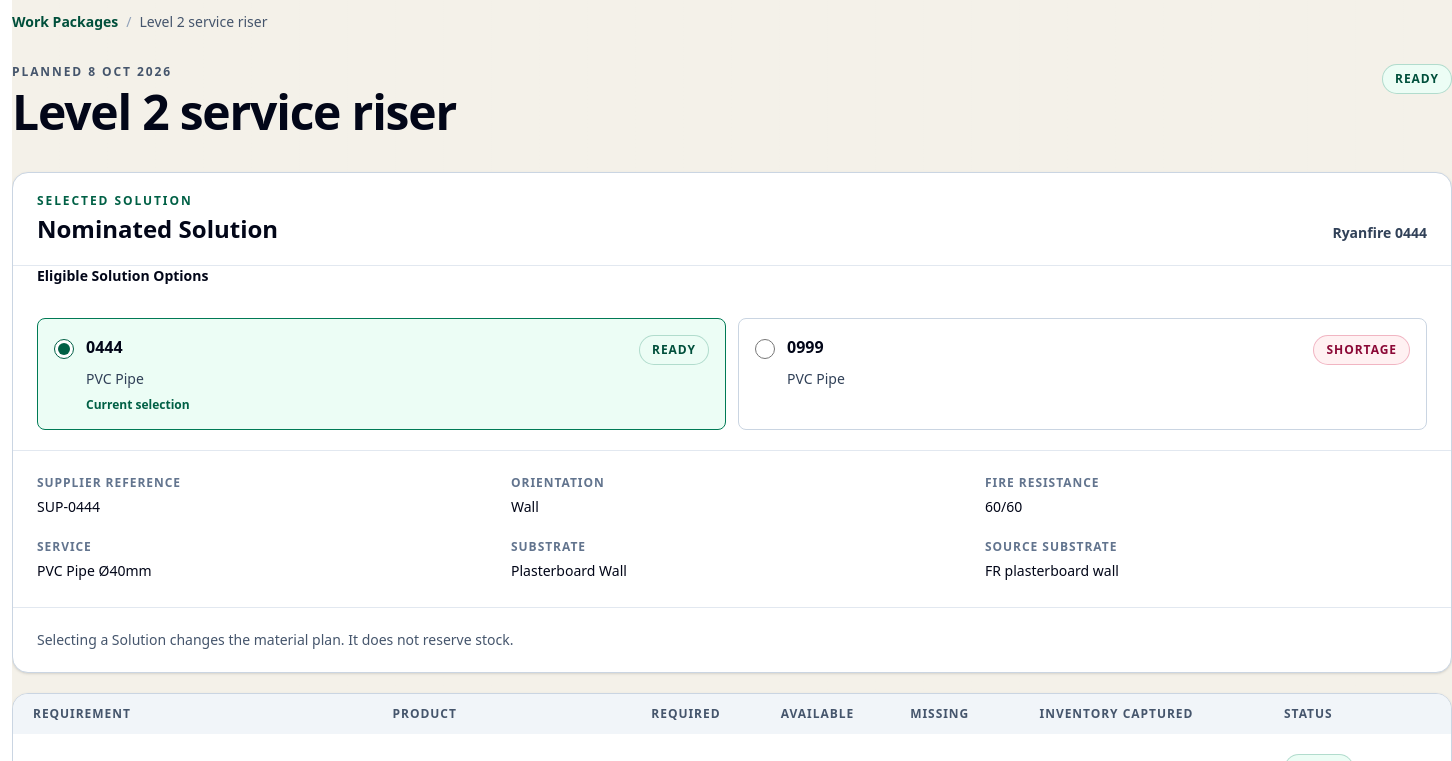
Test: WorkPackage Solution selection › lets a public visitor preview another option without persisting it
Expected: the text "Selected Solution" is shown, [37,192,193,209]
Expected: the message reads "READY", [1395,70,1439,87]
Click the radio button labelled "0999 SHORTAGE PVC Pipe". click: (765, 349)
box: [755,339,775,359]
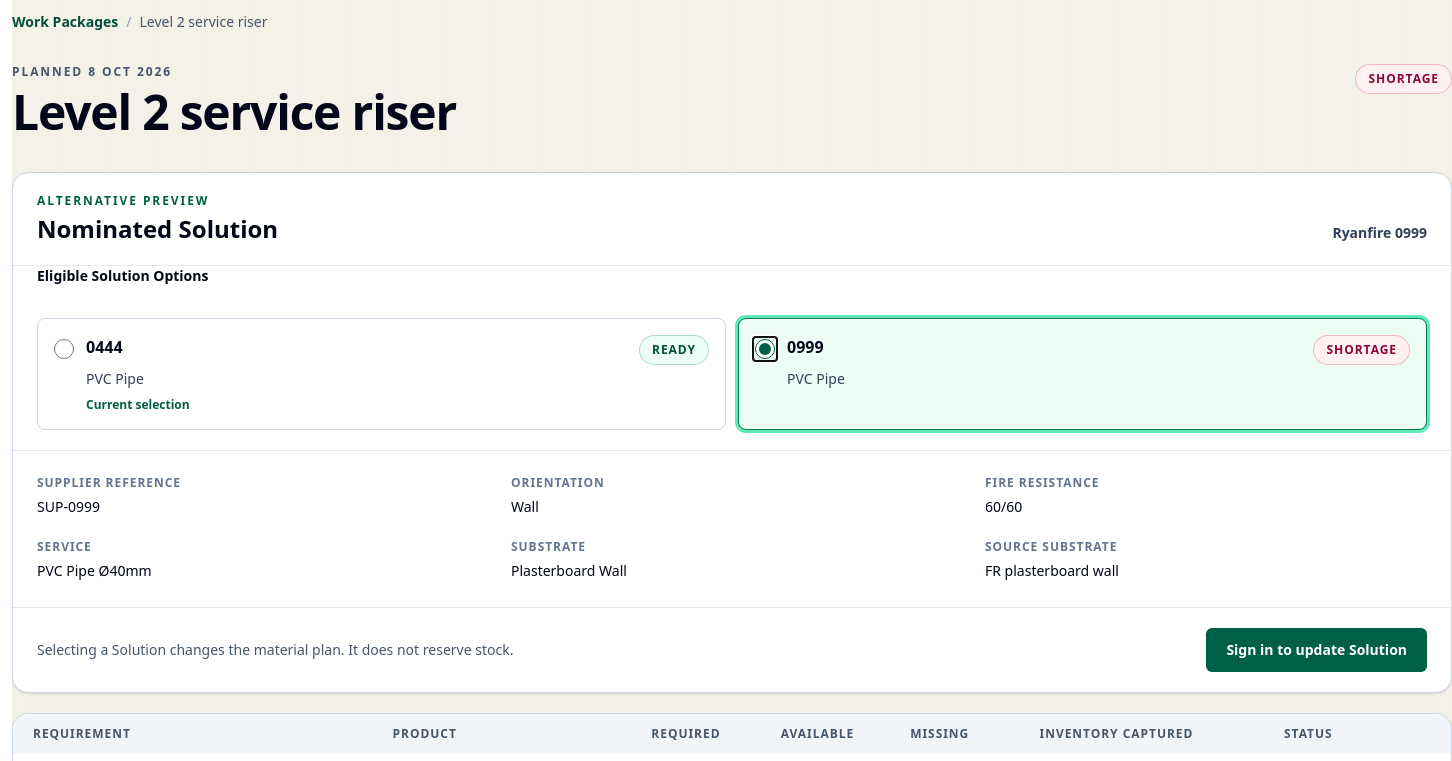
Expected: the text "does not reserve stock" is shown, [37,640,513,659]
Expected: the message reads "SHORTAGE", [1368,70,1439,87]
